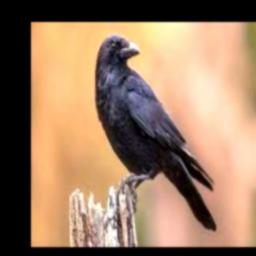Crow: (96, 34, 218, 232)
